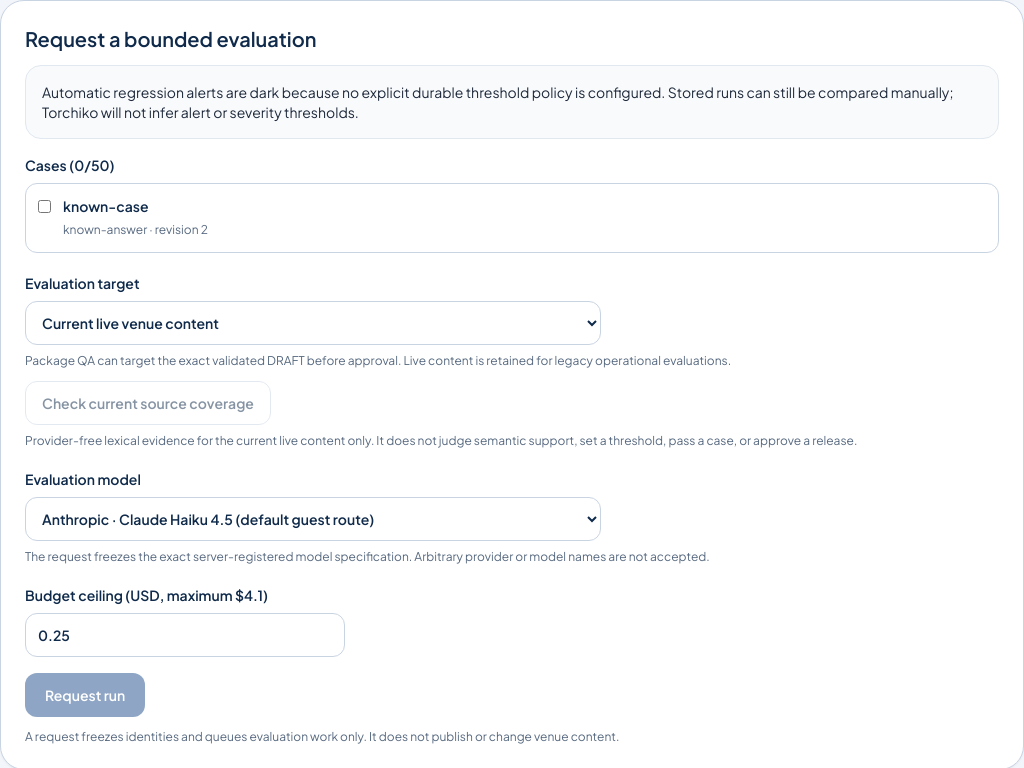
Test: EvaluationRunRequestPanel › states confirmed queueing honestly when evidence refresh fails
The image size is (1024, 768).
Step 1. Click the checkbox → click(44, 206), box x1=38 y1=200 x2=51 y2=213
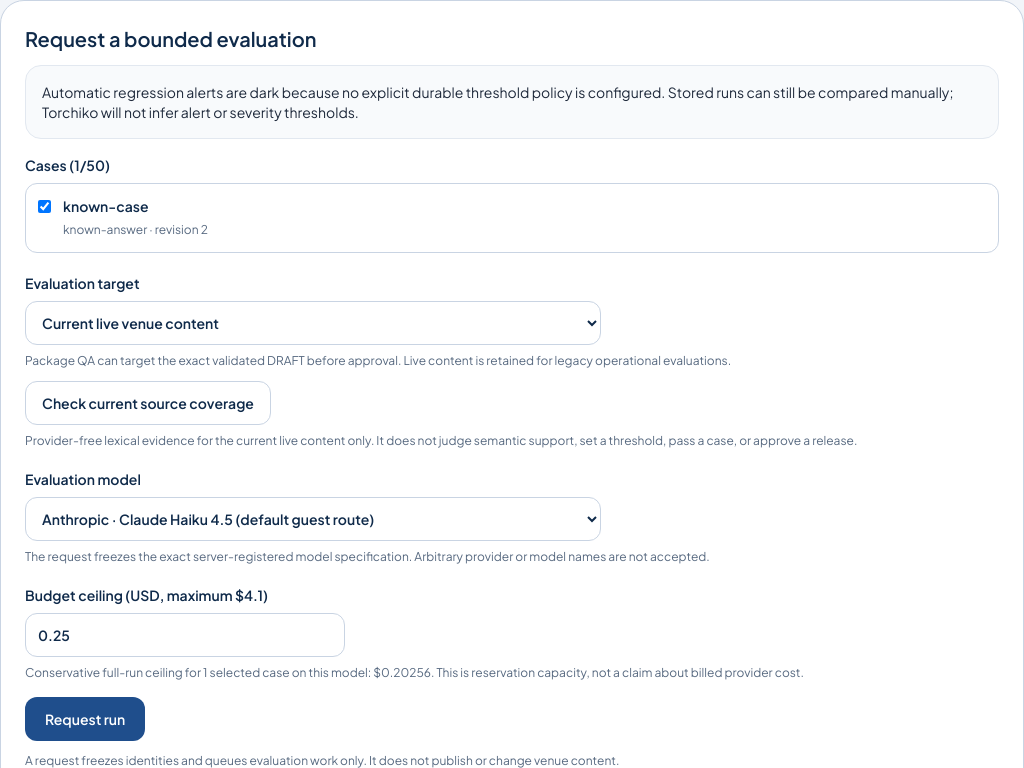
Step 2. Click the button "Request run" → click(85, 719), box x1=25 y1=697 x2=145 y2=741
(page scrolled)
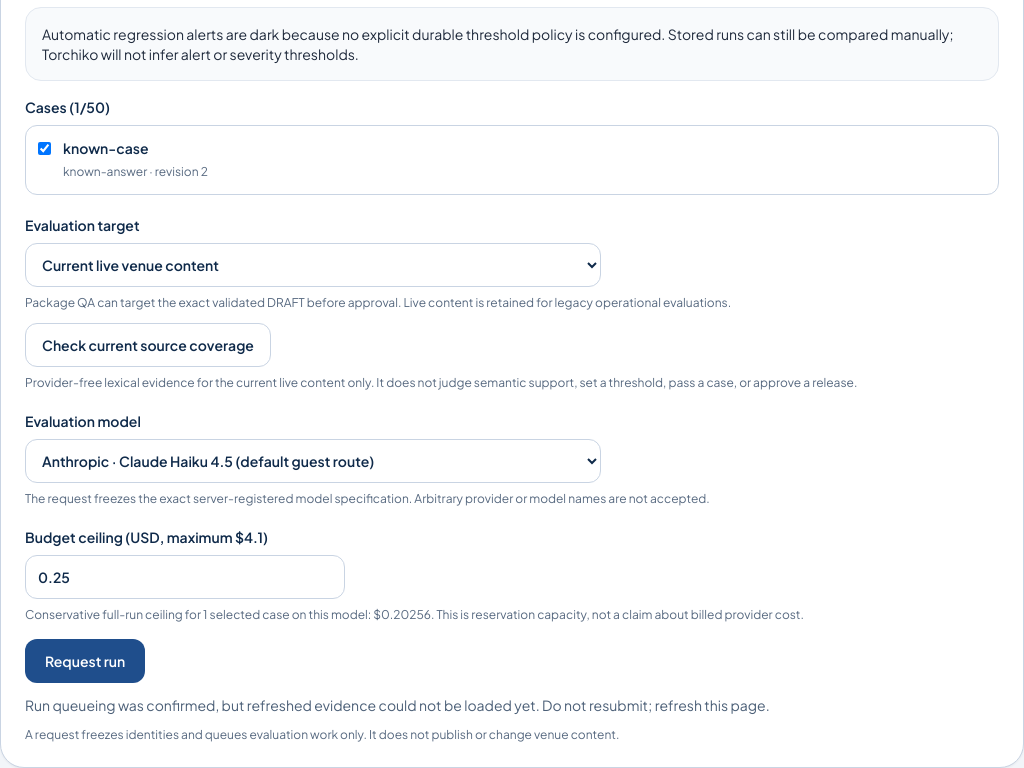
expect the text "queueing was confirmed" is shown: met, box x1=25 y1=696 x2=770 y2=714
